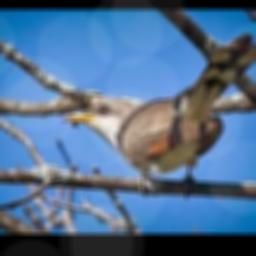Cuckoo: (61, 33, 256, 183)
